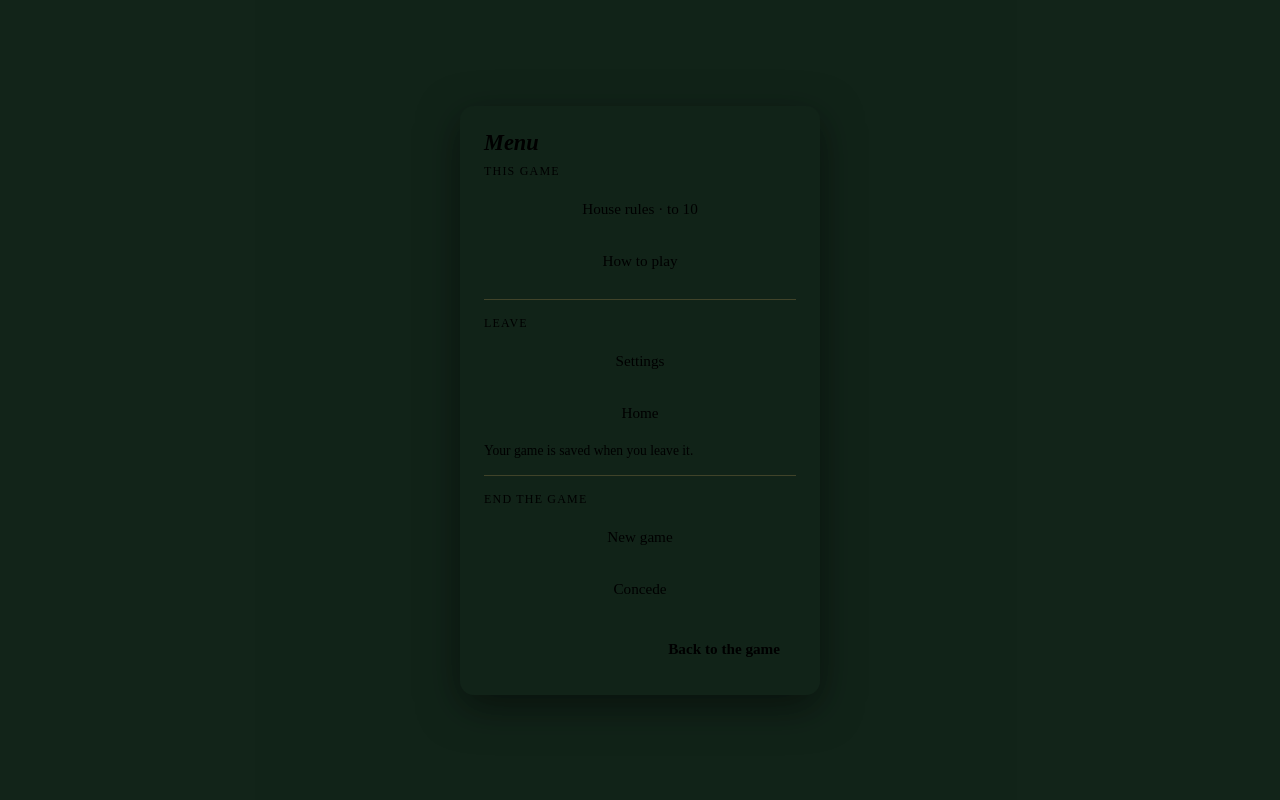
Test: the game menu’s Rules › shows no loner rules with loners off
The width and height of the screenshot is (1280, 800).
Click the button "House rules · to 10": (640, 208) [484, 186, 796, 230]
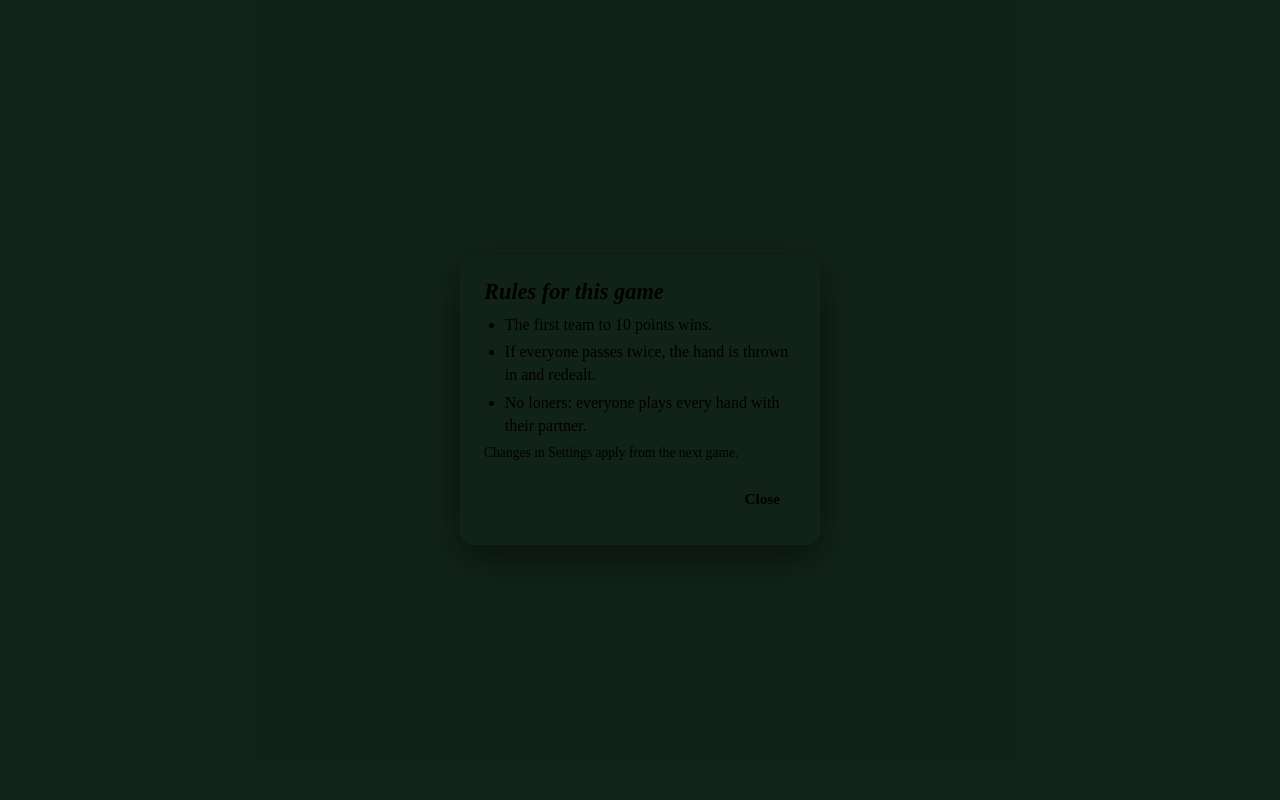
Expected: the list item "No loners: everyone plays every hand with their partner." is shown, [505, 391, 796, 437]
